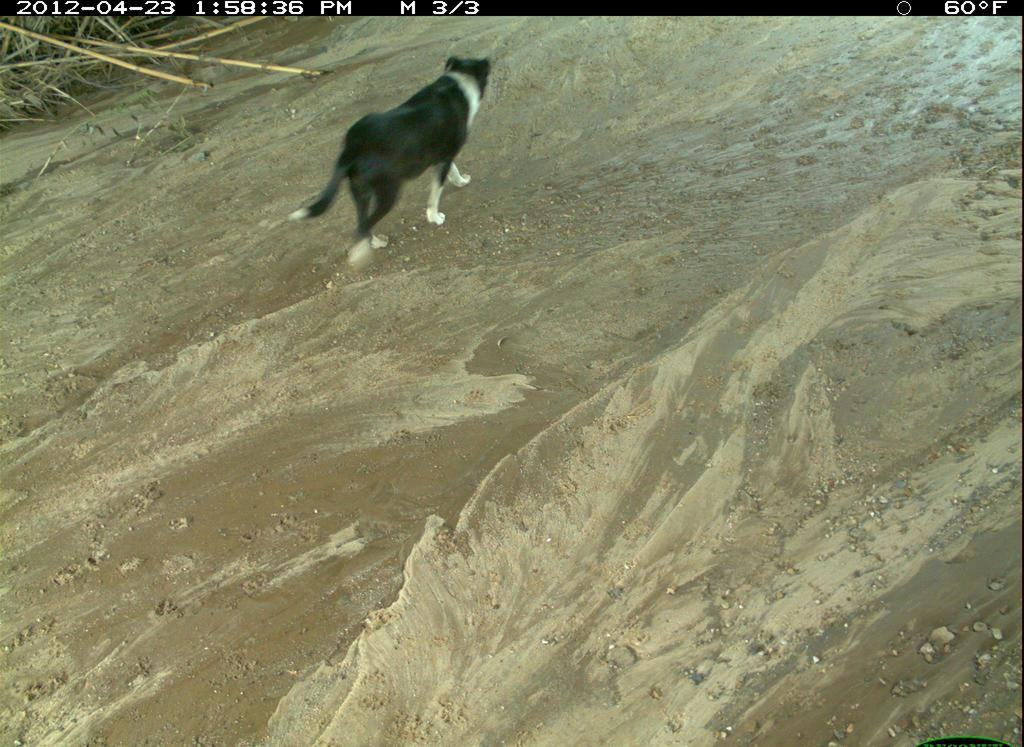dog: (564, 96, 1002, 551)
